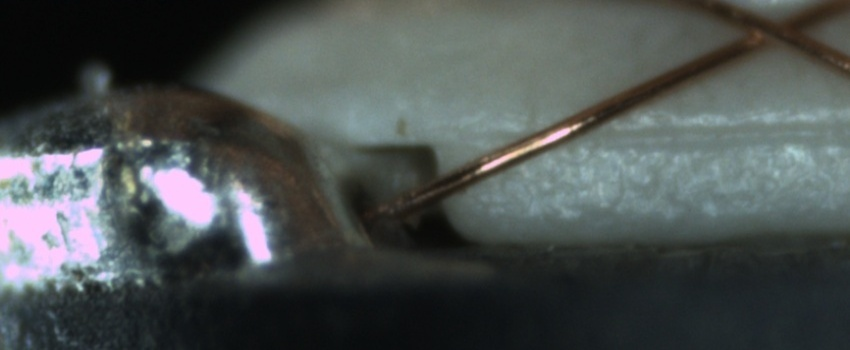CL: (726, 2, 825, 58)
DL: (466, 102, 849, 166)
